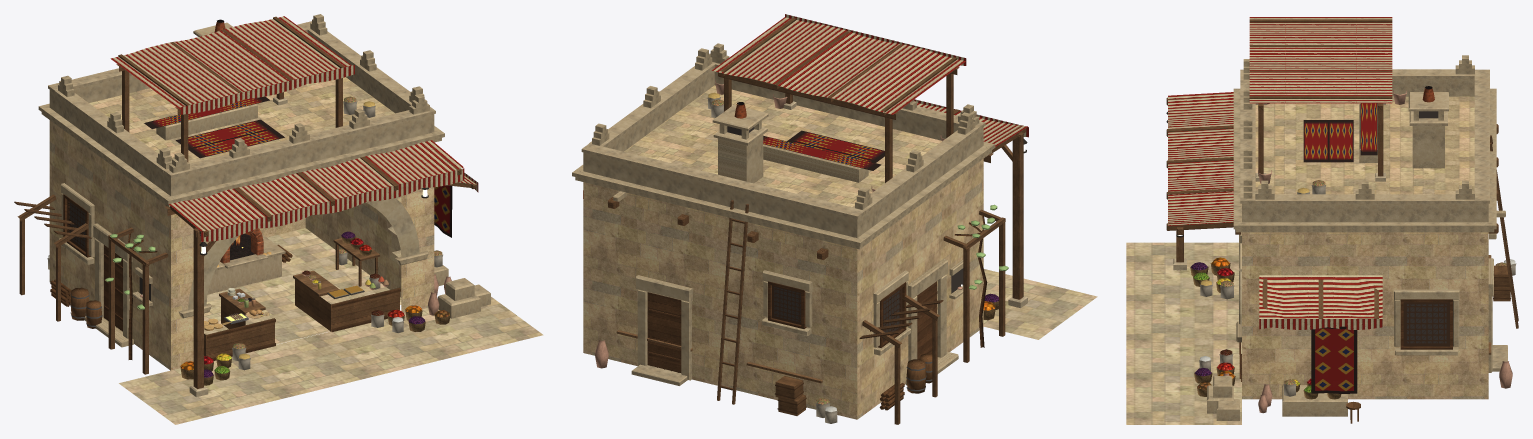
Rendered from food-v5-lite.glb.
3 views of the same model, side by side, from view 1: azimuth 30°, elevation 25°; view 2: azimuth 150°, elevation 25°; view 3: azimuth 270°, elevation 25° (orthographic). The views are drawn at different scales.
Parts seen in each view (by area): view 1: Building, FoodAndProps; view 2: Building, FoodAndProps; view 3: Building, FoodAndProps.
Part boxes in pixels (left/top/right/bottom): Building: left=14, top=14, right=543, bottom=424; FoodAndProps: left=47, top=96, right=451, bottom=385; Building: left=572, top=14, right=1097, bottom=424; FoodAndProps: left=595, top=80, right=1027, bottom=423; Building: left=1126, top=17, right=1518, bottom=424; FoodAndProps: left=1166, top=90, right=1516, bottom=423.
Size of what is drawn, in the model's own units: 11.21 by 7.51 by 10.18.
19 materials, 14 textured.
